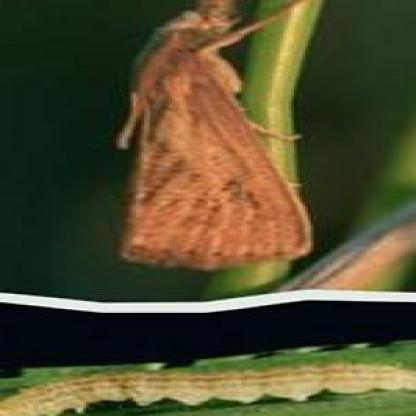stem-borer: (107, 0, 319, 275)
